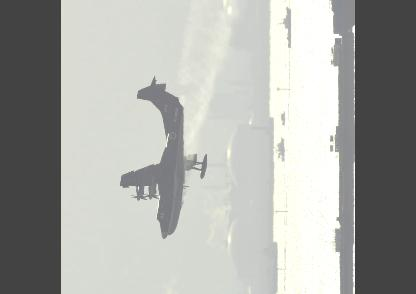Tu95: (119, 74, 206, 237)
